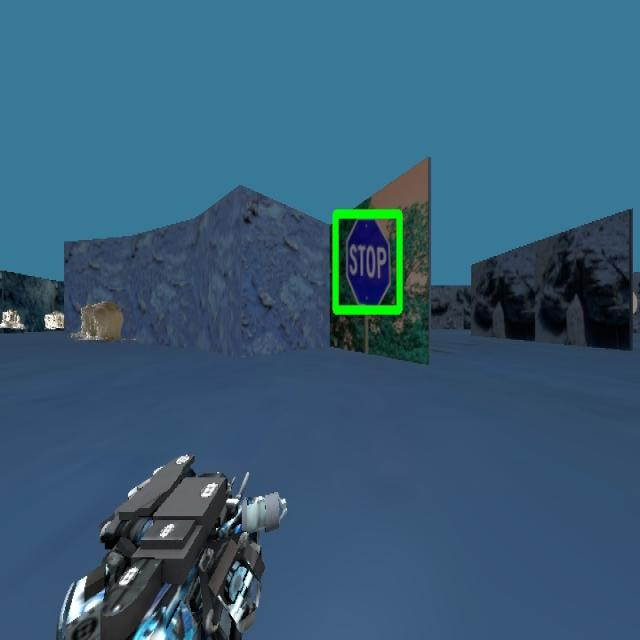Diamon: (331, 207, 404, 316)
Ice: (74, 284, 142, 348), (0, 295, 29, 334), (42, 302, 69, 336)
